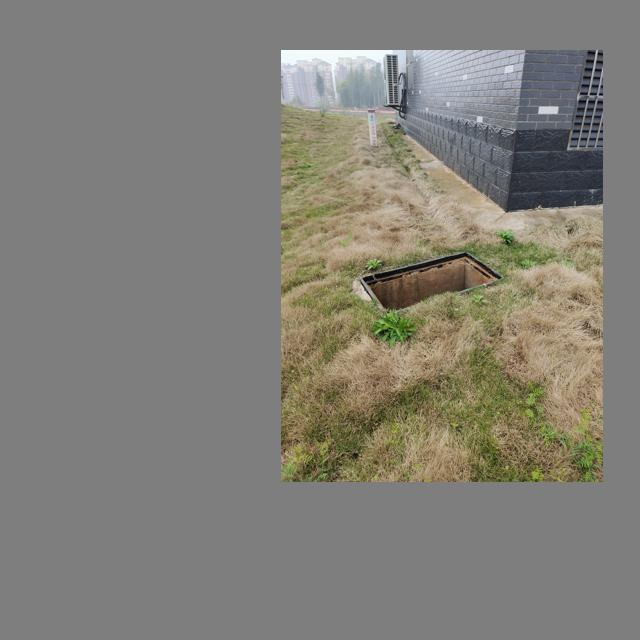lose: (361, 251, 508, 314)
